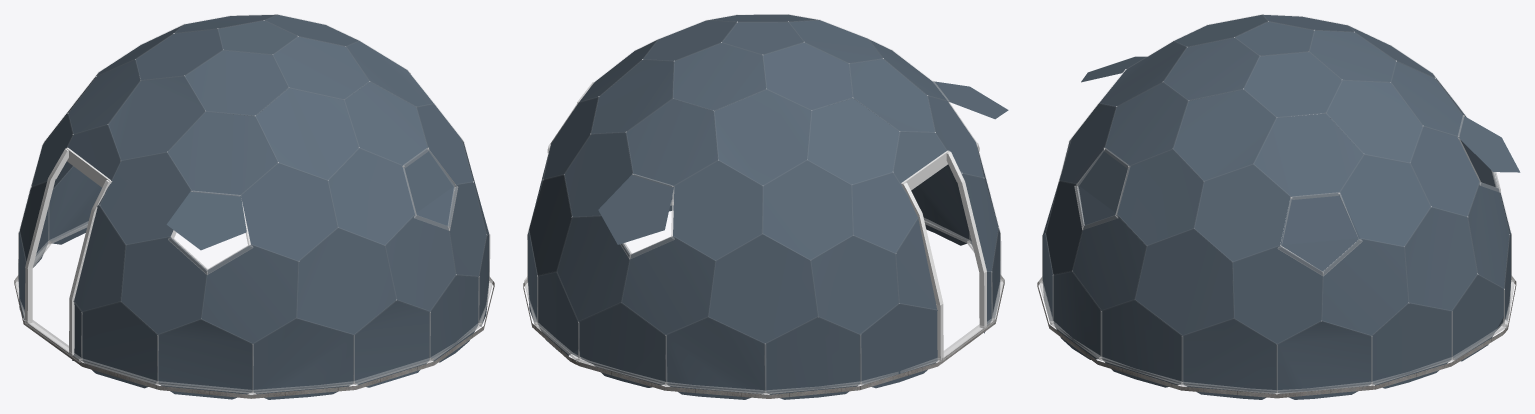
The picture shows the model from 3 angles, left to right: view 1: azimuth 30°, elevation 25°; view 2: azimuth 150°, elevation 25°; view 3: azimuth 270°, elevation 25°; orthographic projection.
Size of the model in its own units: 515 by 317 by 526.
5 materials, 1 textured.
